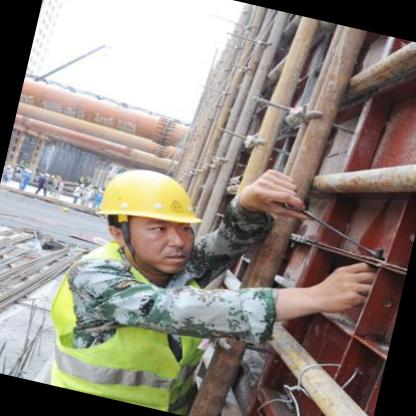bee: (74, 150, 228, 291)
